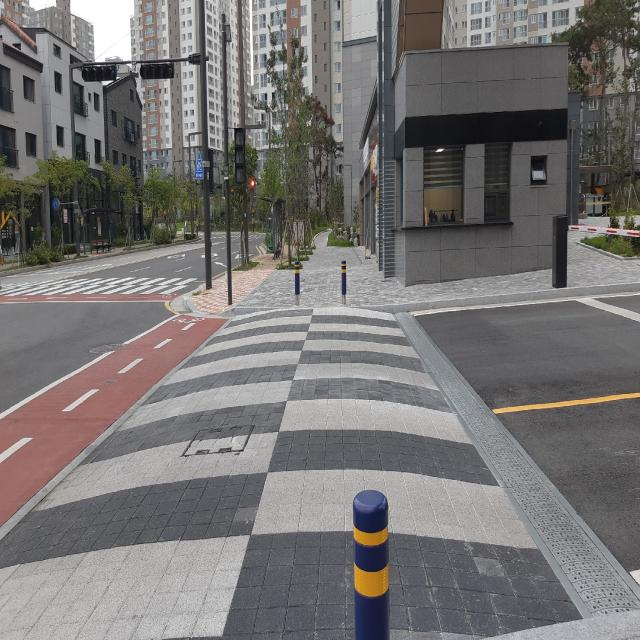횡단보도: (0, 302, 540, 640), (0, 277, 184, 298)
